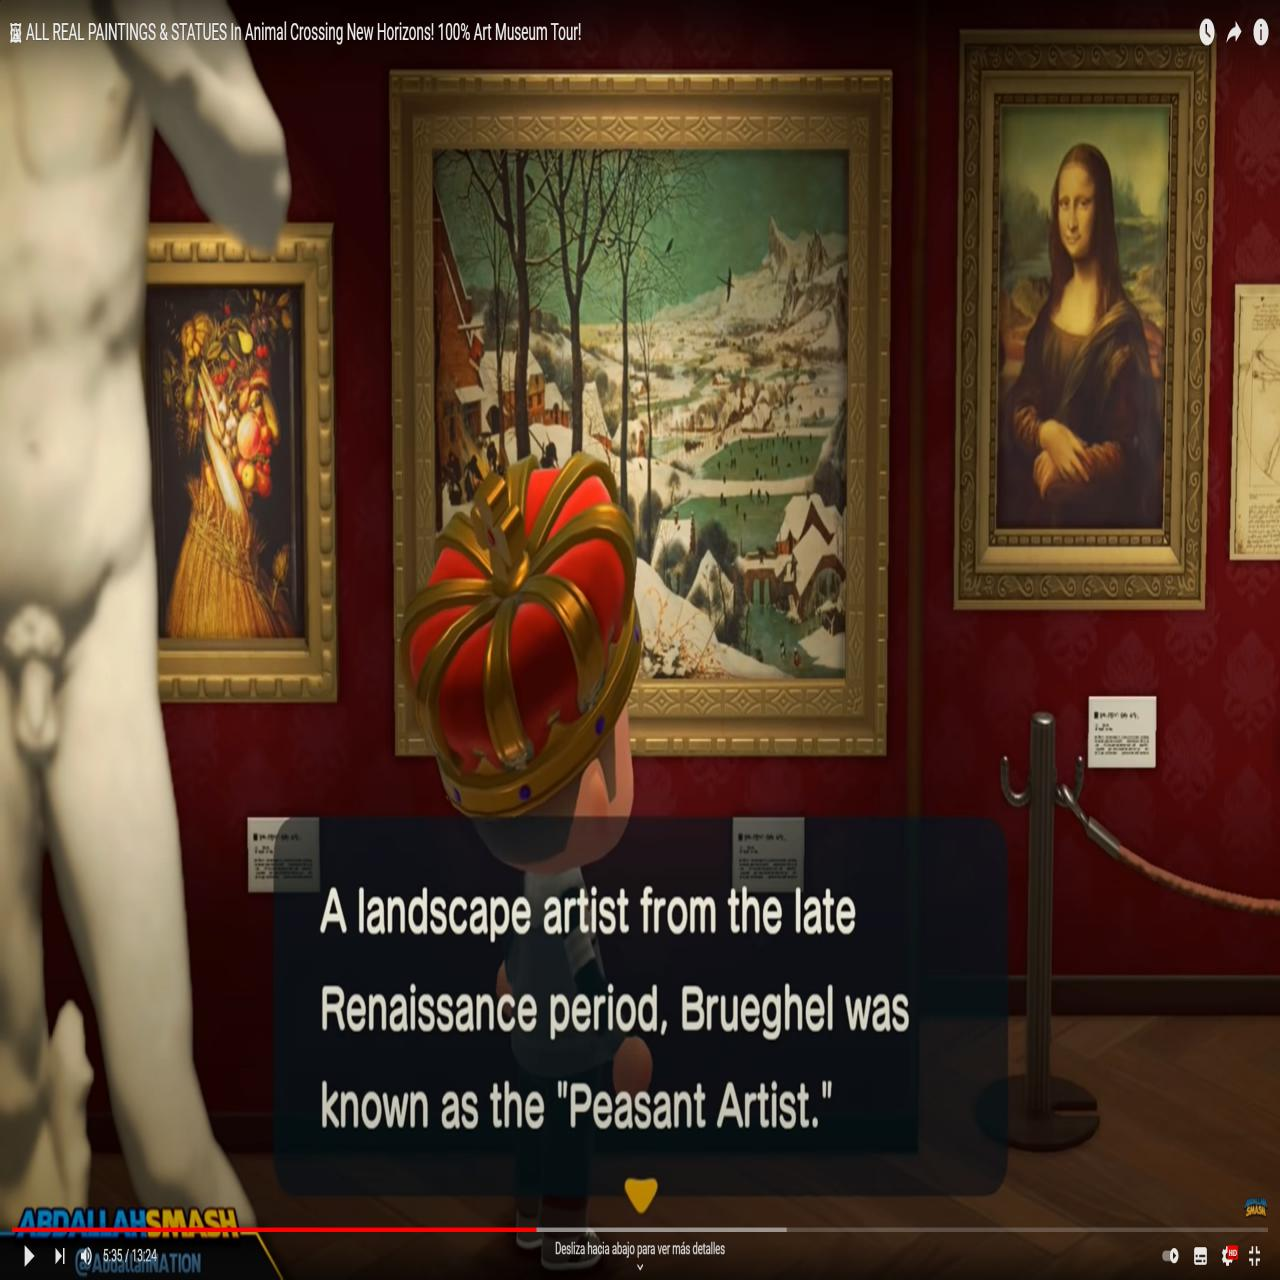MonaLisa: (1003, 110, 1164, 527)
Summer: (145, 290, 302, 648)
